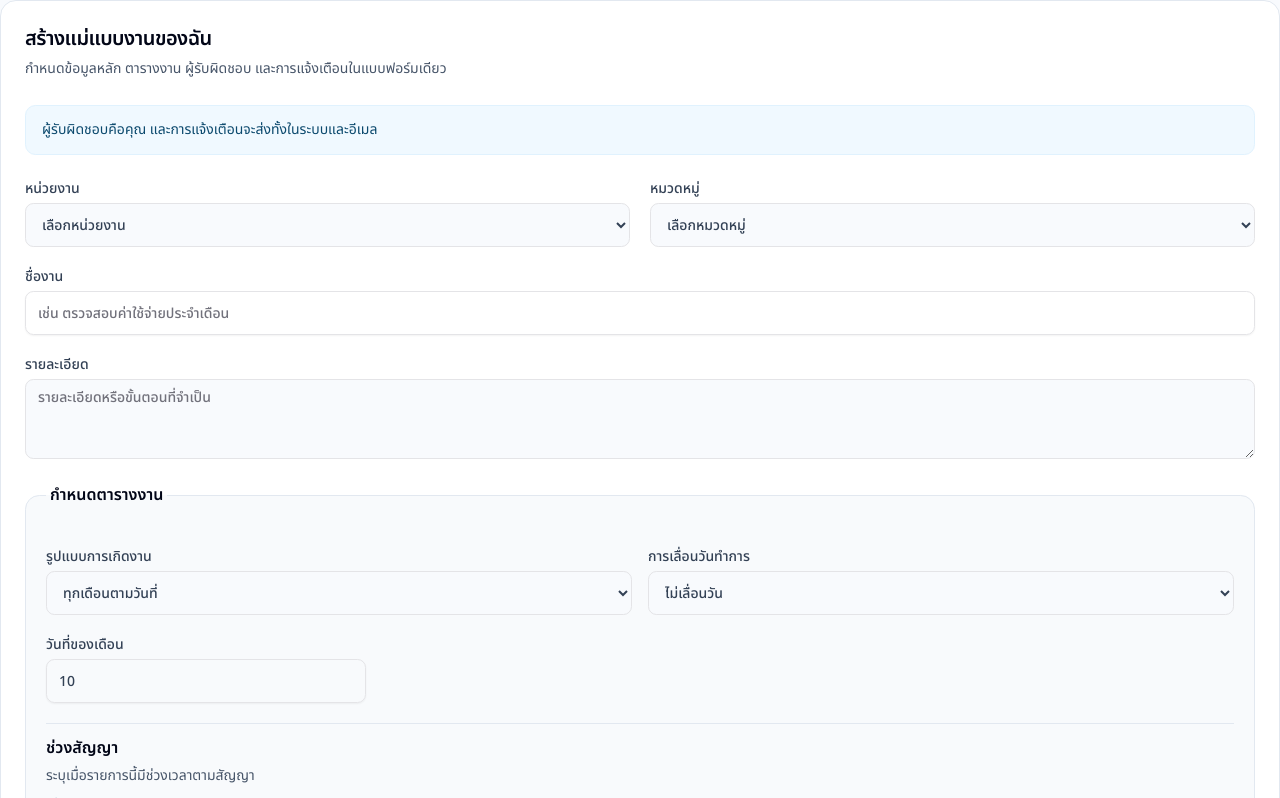
RoutineTaskForm reminder rules › keeps day and month inputs within their valid calendar bounds
The image size is (1280, 798).
Replace the text in the number field labelled "วันที่ของเดือน" with "45" at (206, 681), box [46,659,366,703]
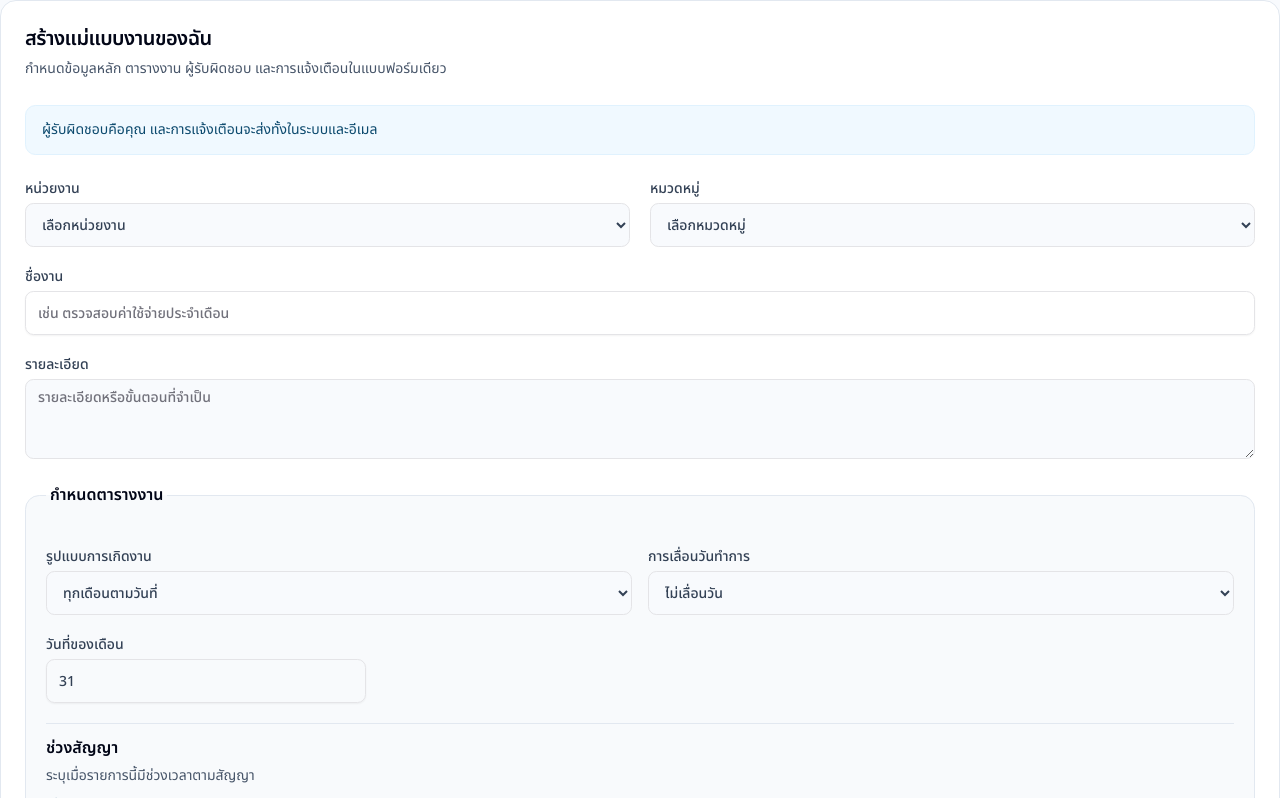
Result: the number field labelled "วันที่ของเดือน" holds "31" at [46,659,366,703]
Select "ทุกปีตามวันที่" in the dropdown labelled "รูปแบบการเกิดงาน" at (339, 593), box [46,571,632,615]
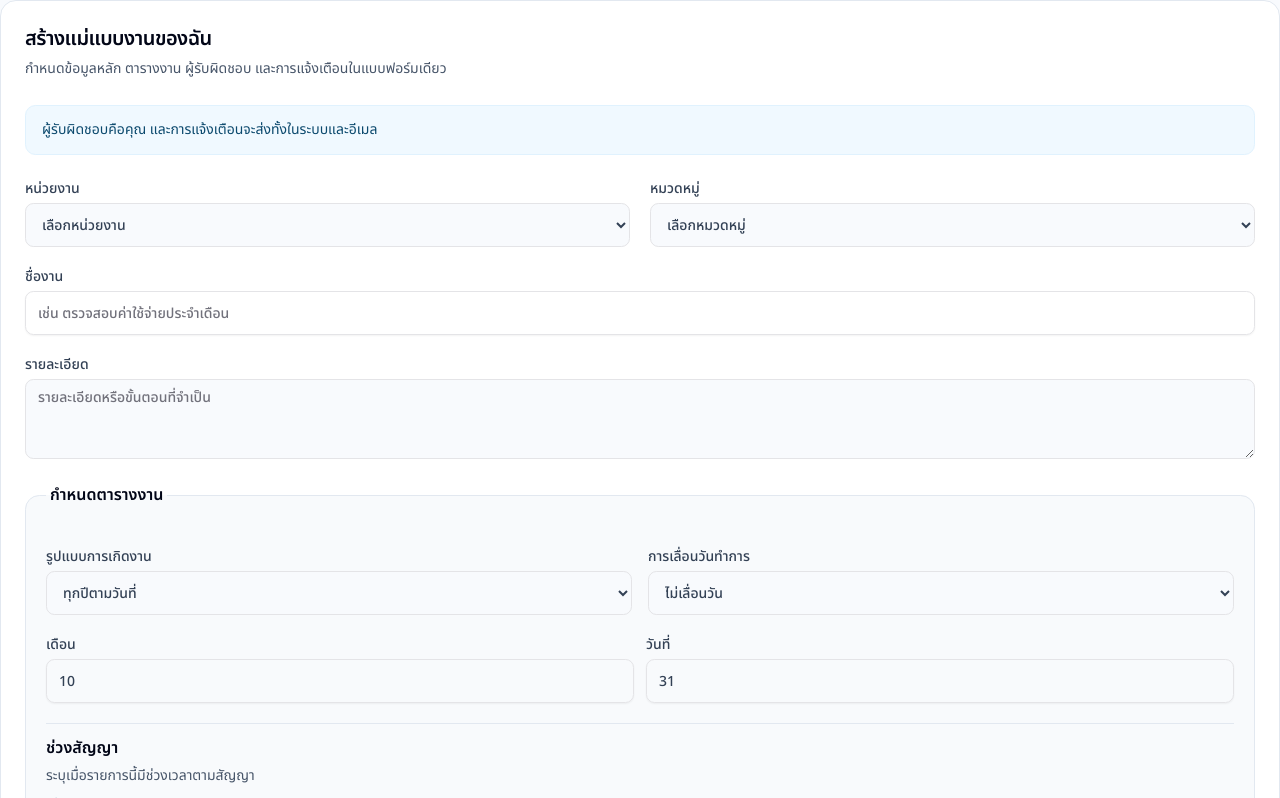
Replace the text in the number field labelled "เดือน" with "15" at (340, 681), box [46,659,634,703]
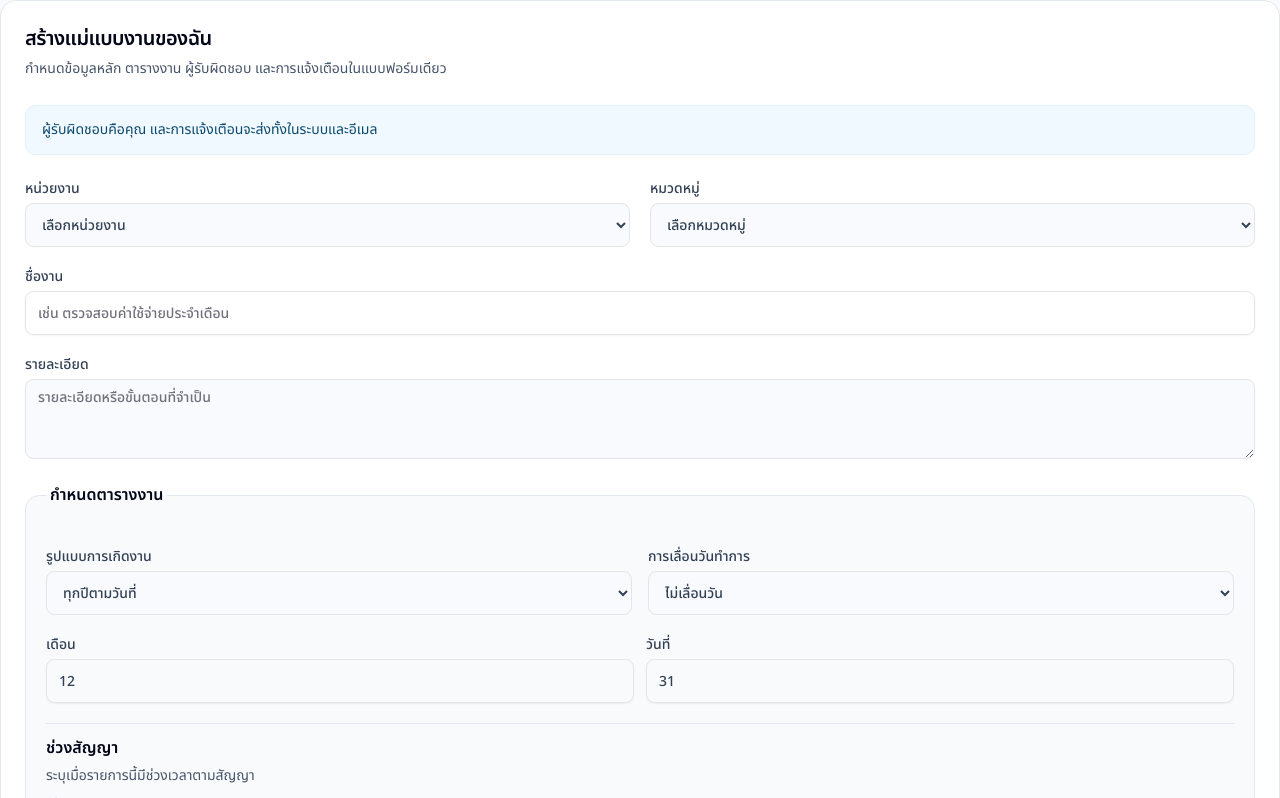
Result: the number field labelled "เดือน" holds "12"
Replace the text in the number field labelled "เดือน" with "2" at (340, 681), box [46,659,634,703]
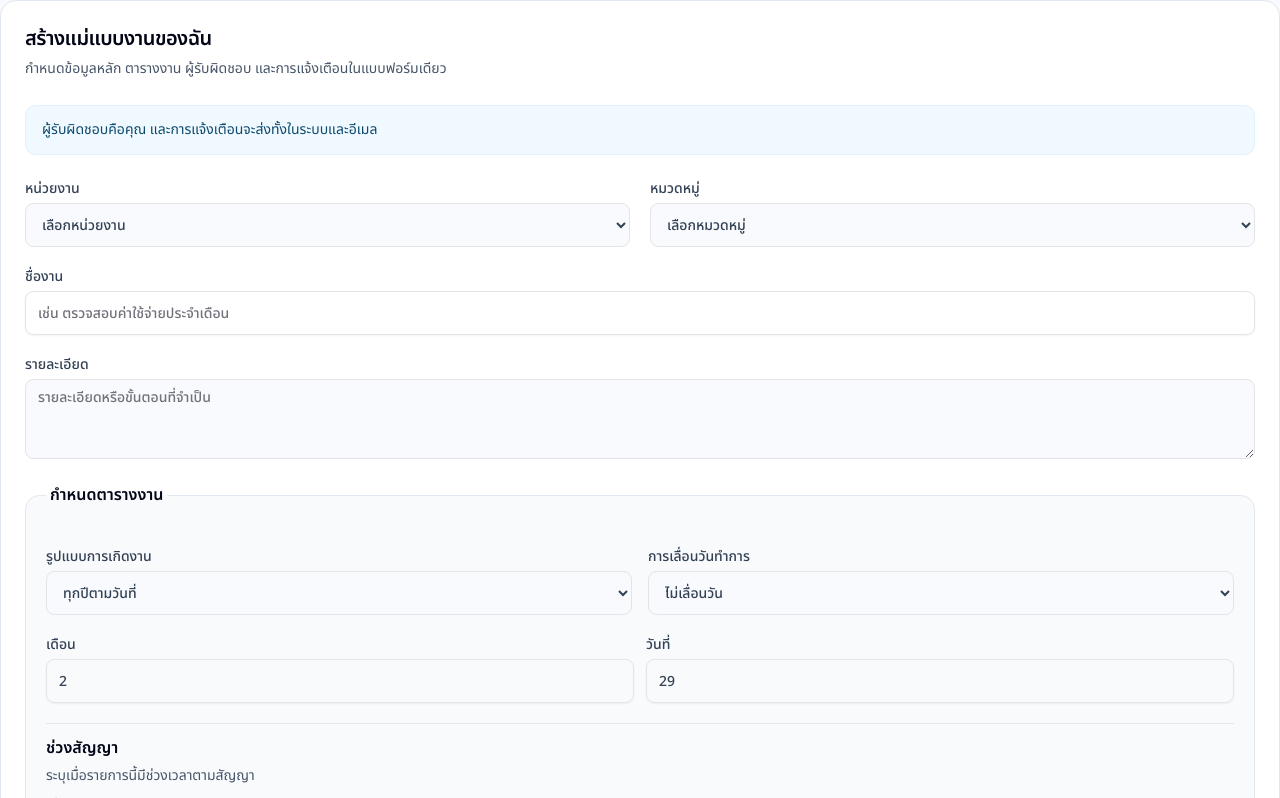
Result: the number field labelled "วันที่" holds "29" at [646,659,1234,703]
